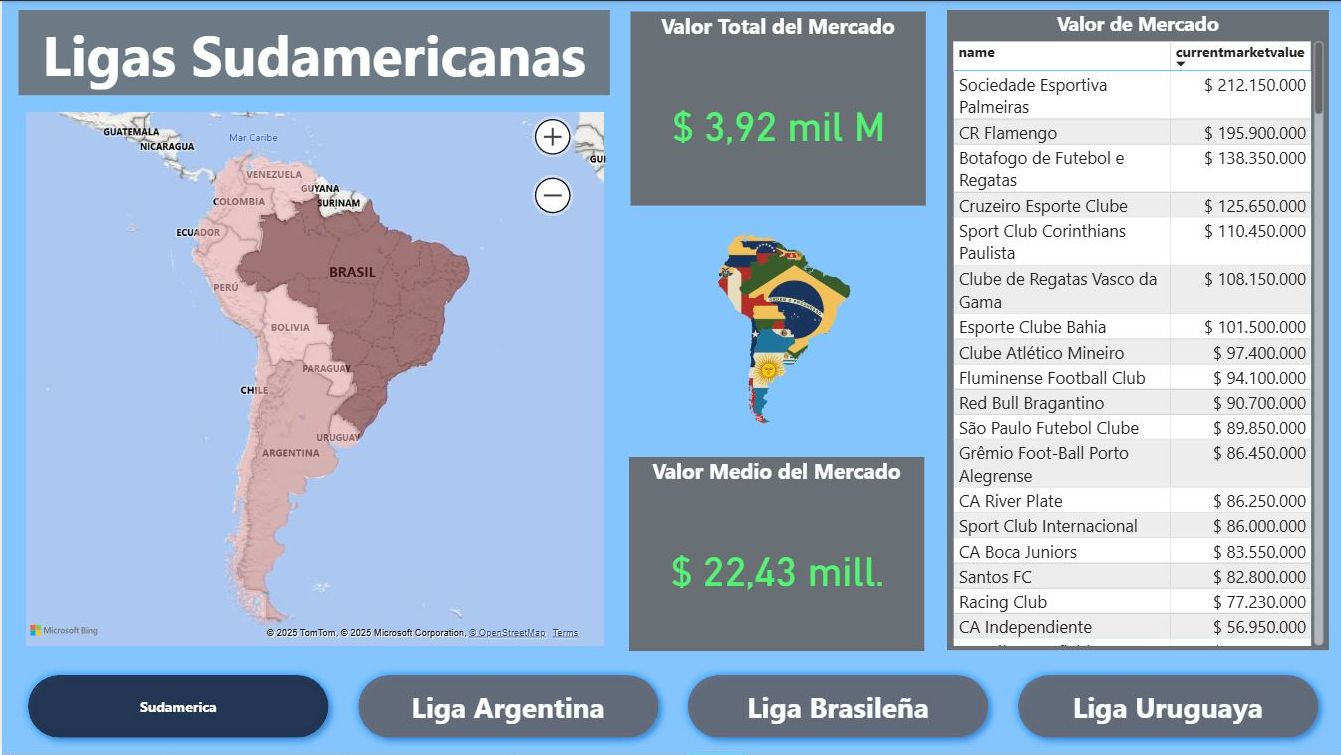

The dashboard page shown, as its layout file describes it:
{"tool":"powerbi","page":{"name":"Sudamerica","canvas":[1280,720],"ordinal":0},"visuals":[{"type":"card","title":"Valor Total del Mercado","fields":{"Values":["clubs.Total Market Value"]},"box":[600,10,281.7,185],"z":0},{"type":"card","title":"Valor Medio del Mercado","fields":{"Values":["clubs.Market per Club"]},"box":[598.3,435,281.7,185],"z":2000},{"type":"tableEx","title":"Valor de Mercado","fields":{"Values":["clubs.name","Sum(clubs.currentmarketvalue)"]},"box":[902.7,8.1,364.3,611.6],"z":3000},{"type":"pageNavigator","box":[16.3,634.4,1250.8,78.1],"z":4000},{"type":"textbox","box":[16.3,8.1,564.4,81.3],"z":5000},{"type":"image","box":[598.6,205.1,283.3,216.7],"z":6000},{"type":"filledMap","fields":{"Category":["competitions.country"]},"box":[16.7,100,563.3,520],"z":8000}]}

Visuals, with their boxes in screenshot pixels (x1, y1, x2, y2), scaled from the page's 1280x720 canvas onto the 1341x755 screenshot:
"Valor Total del Mercado" card: 629:10:924:204
"Valor Medio del Mercado" card: 627:456:922:650
"Valor de Mercado" tableEx: 946:8:1327:650
pageNavigator: 17:665:1327:747
textbox: 17:8:608:94
image: 627:215:924:442
filledMap - competitions.country: 17:105:608:650
